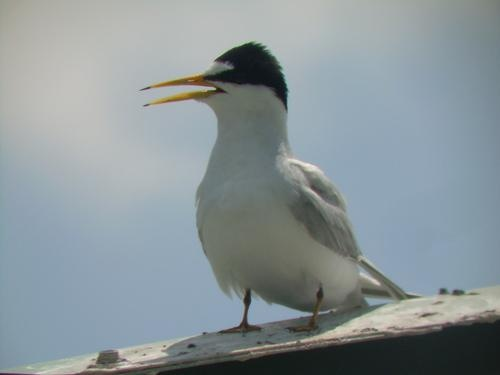bird: (131, 38, 420, 334)
